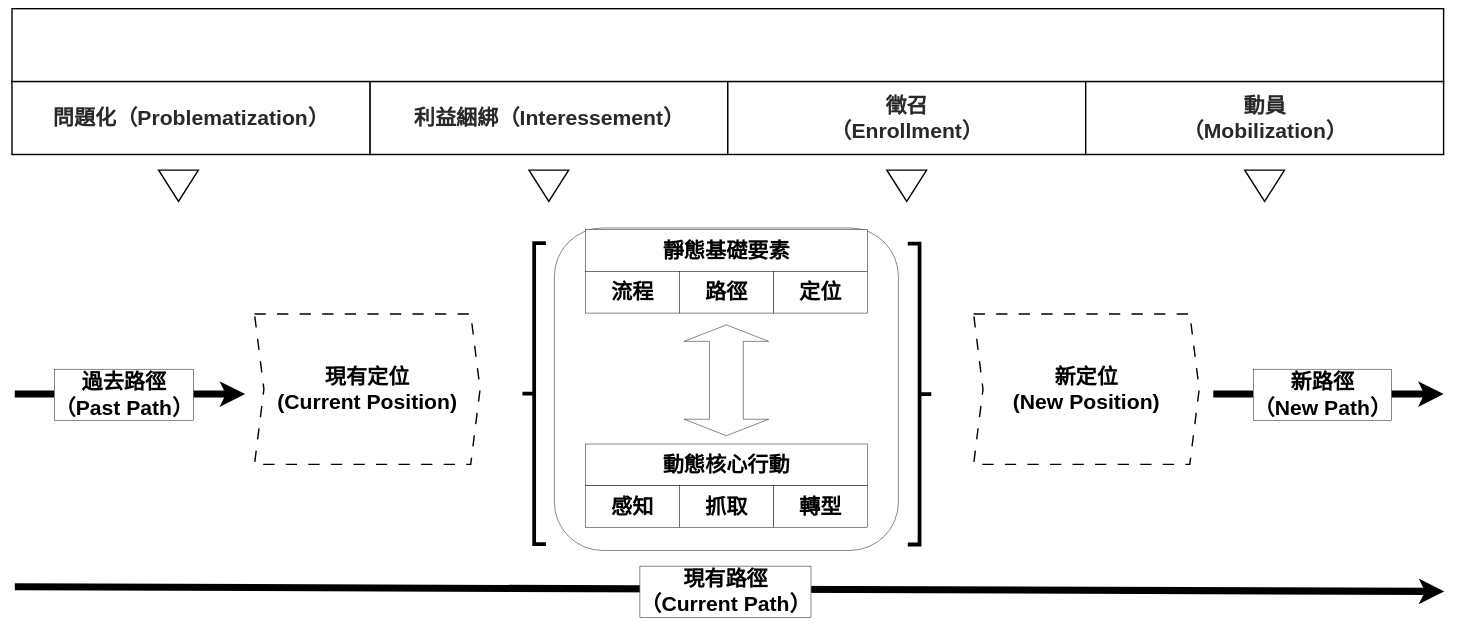
The diagram is 1460 pixels wide and 626 high, and some of its shapes have lost their labels. The box of each missing label's shape, as (x1, y1, x2, y2) in pixels:
網絡轉譯流程（ Translation）: (11, 8, 1444, 82)
資源 編排: (684, 324, 769, 436)
